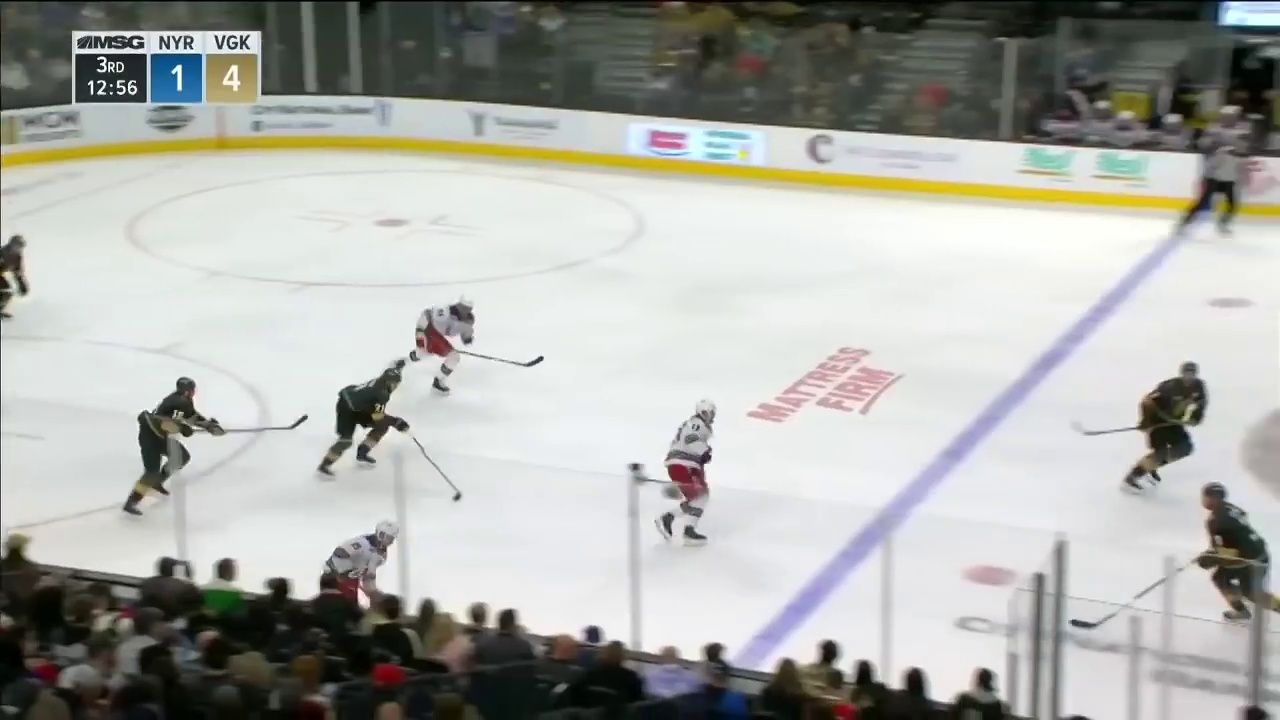hockeyplayer: (123, 377, 225, 519), (1195, 481, 1280, 624), (1119, 361, 1210, 494), (316, 367, 409, 479), (653, 398, 717, 545), (392, 295, 475, 396), (1, 235, 29, 320)
referee: (1179, 144, 1250, 237)
